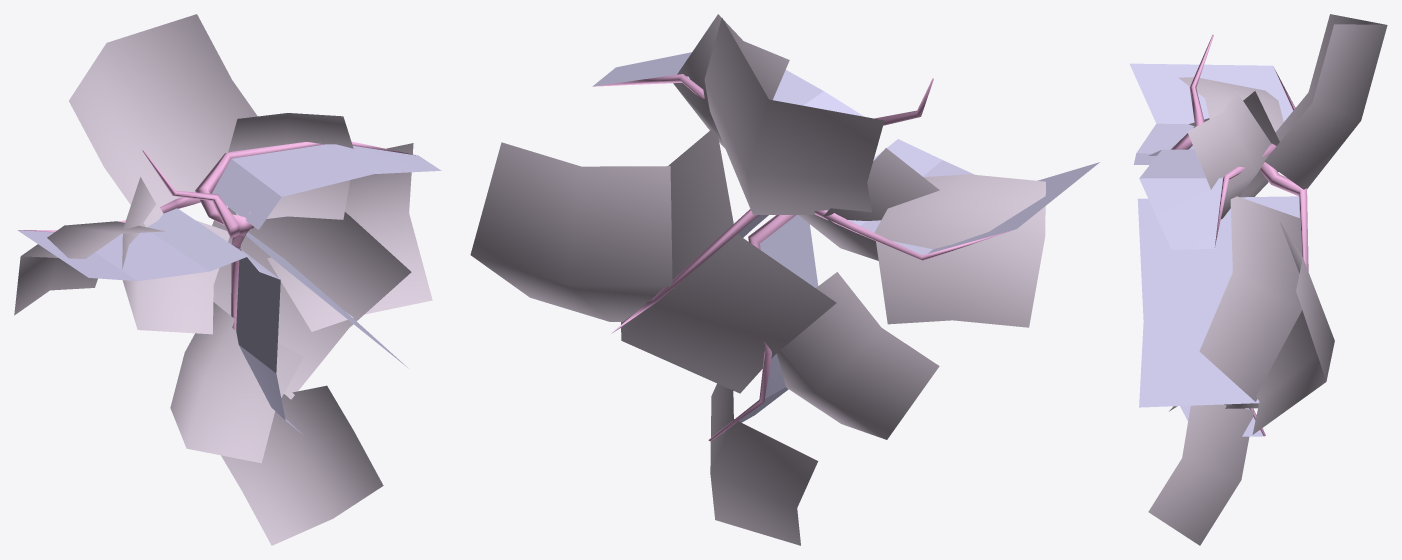
The picture shows the model from 3 angles, left to right: view 1: azimuth 30°, elevation 25°; view 2: azimuth 150°, elevation 25°; view 3: azimuth 270°, elevation 25°; orthographic projection. The views are drawn at different scales.
Visible parts, largest first — view 1: Object28; view 2: Object28; view 3: Object28.
Boxes of the visible parts, x1,y1,x2,y2 form: Object28: (14,14,441,545); Object28: (470,14,1099,545); Object28: (1129,14,1387,545).
Size of the model in its own units: 85691 by 92272 by 43651.
